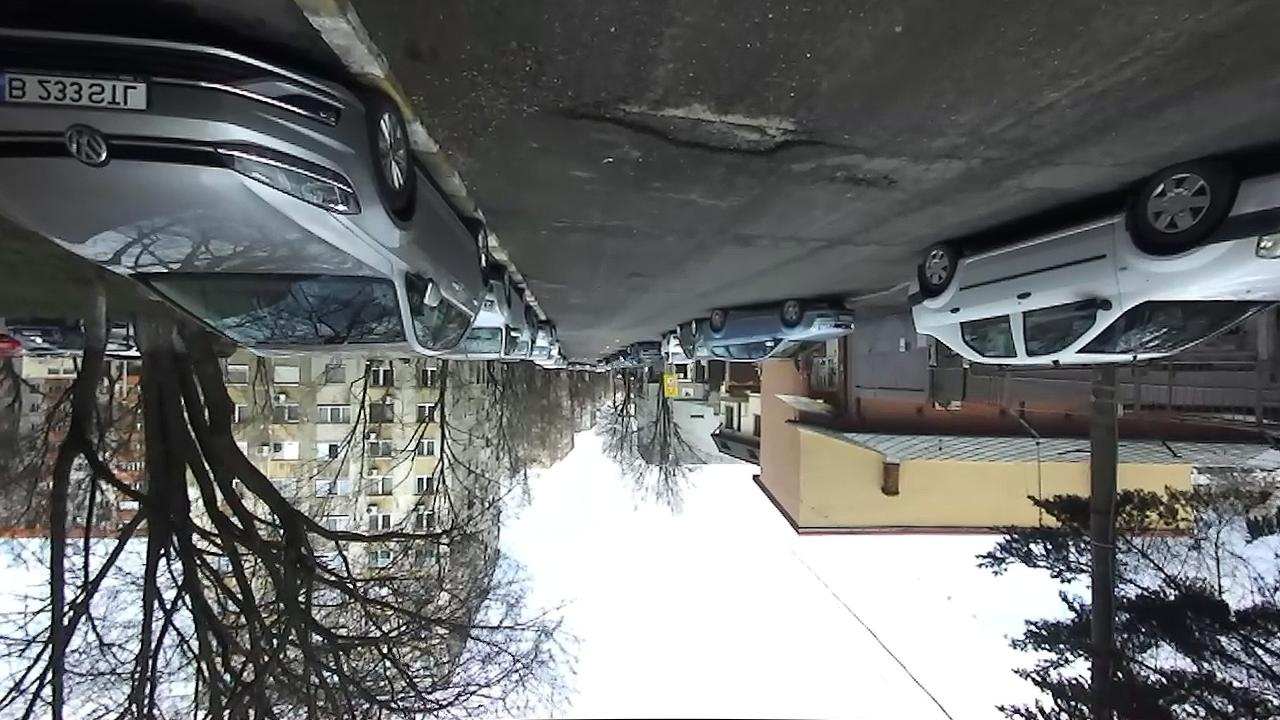pothole: (548, 91, 841, 160), (808, 163, 905, 197)
